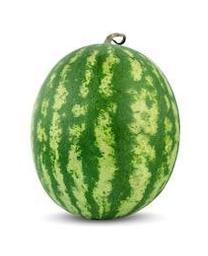watermelon: (29, 44, 182, 223)
